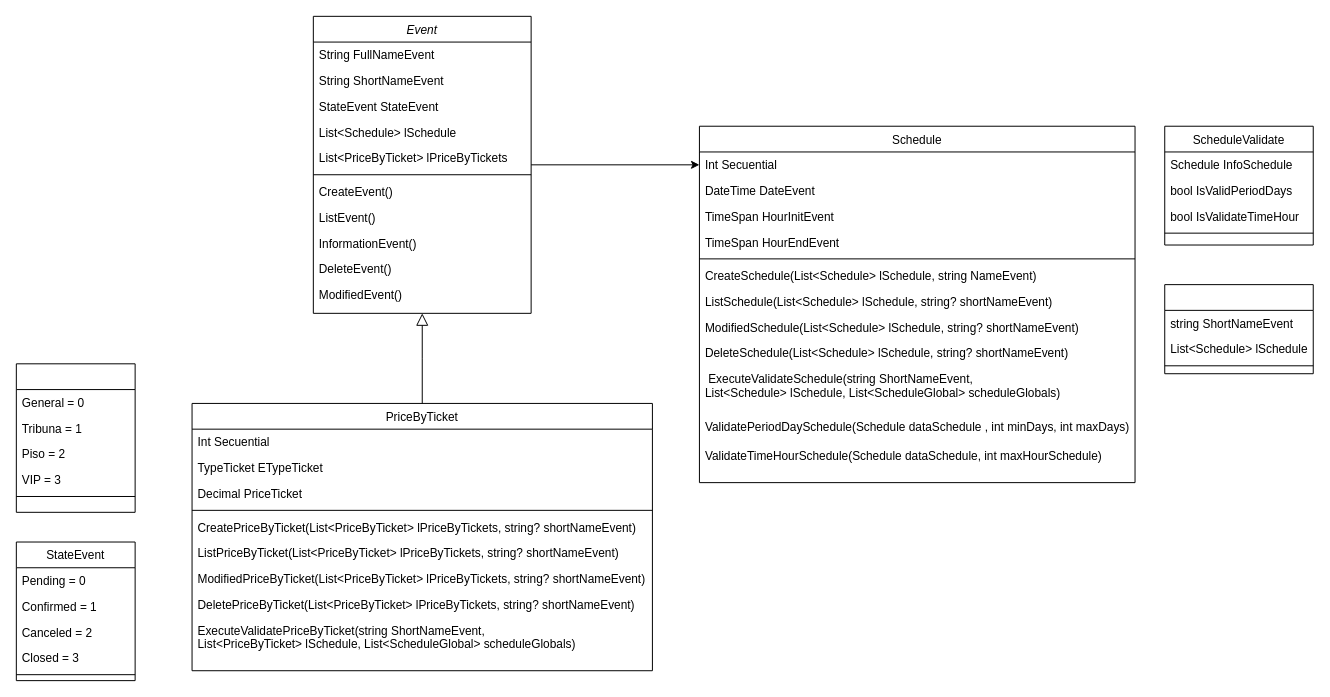
Image size: 1330x697. Some labels were removed from this diagram. The box of each missing label's shape, as (x1, y1, x2, y2) in pixels:
ScheduleGlobal: (1164, 284, 1313, 374)
TypeTicket: (15, 363, 135, 512)
